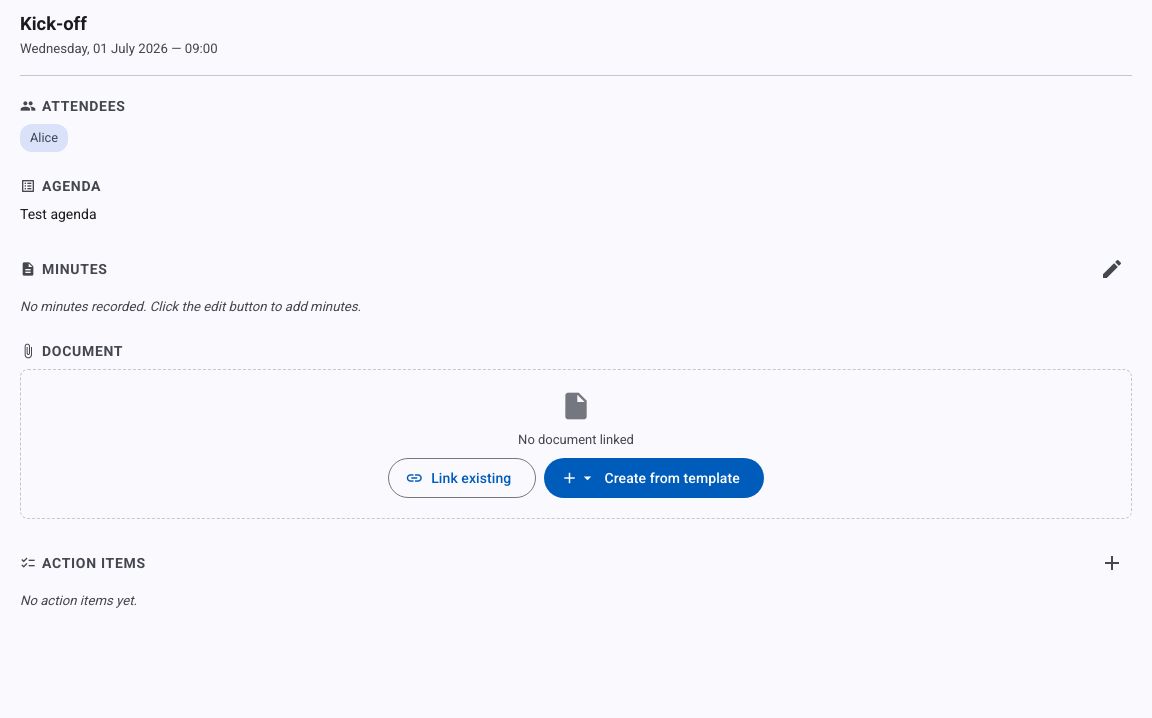
Test: MeetingDetailComponent › shows add action item form on button click
Click the button named "Add action item" at (1112, 563), box [1092,543,1132,583]
(page scrolled)
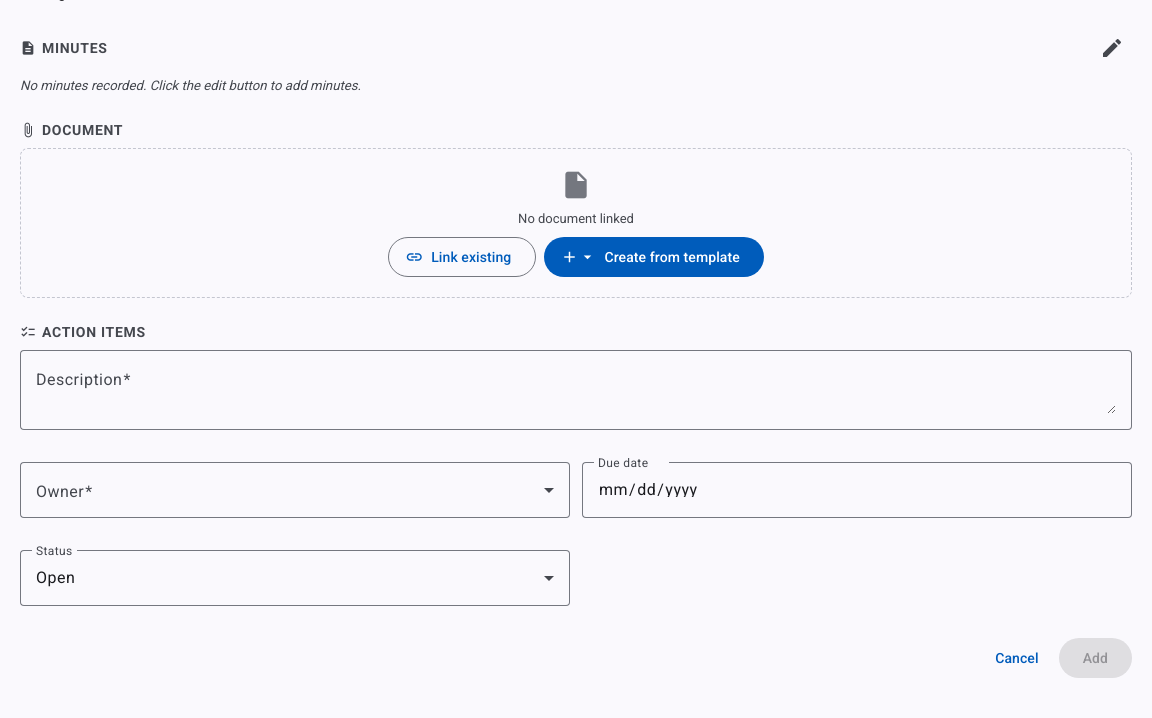
Now the form with class "md__ai-form" is shown, box [20,350,1132,678]
